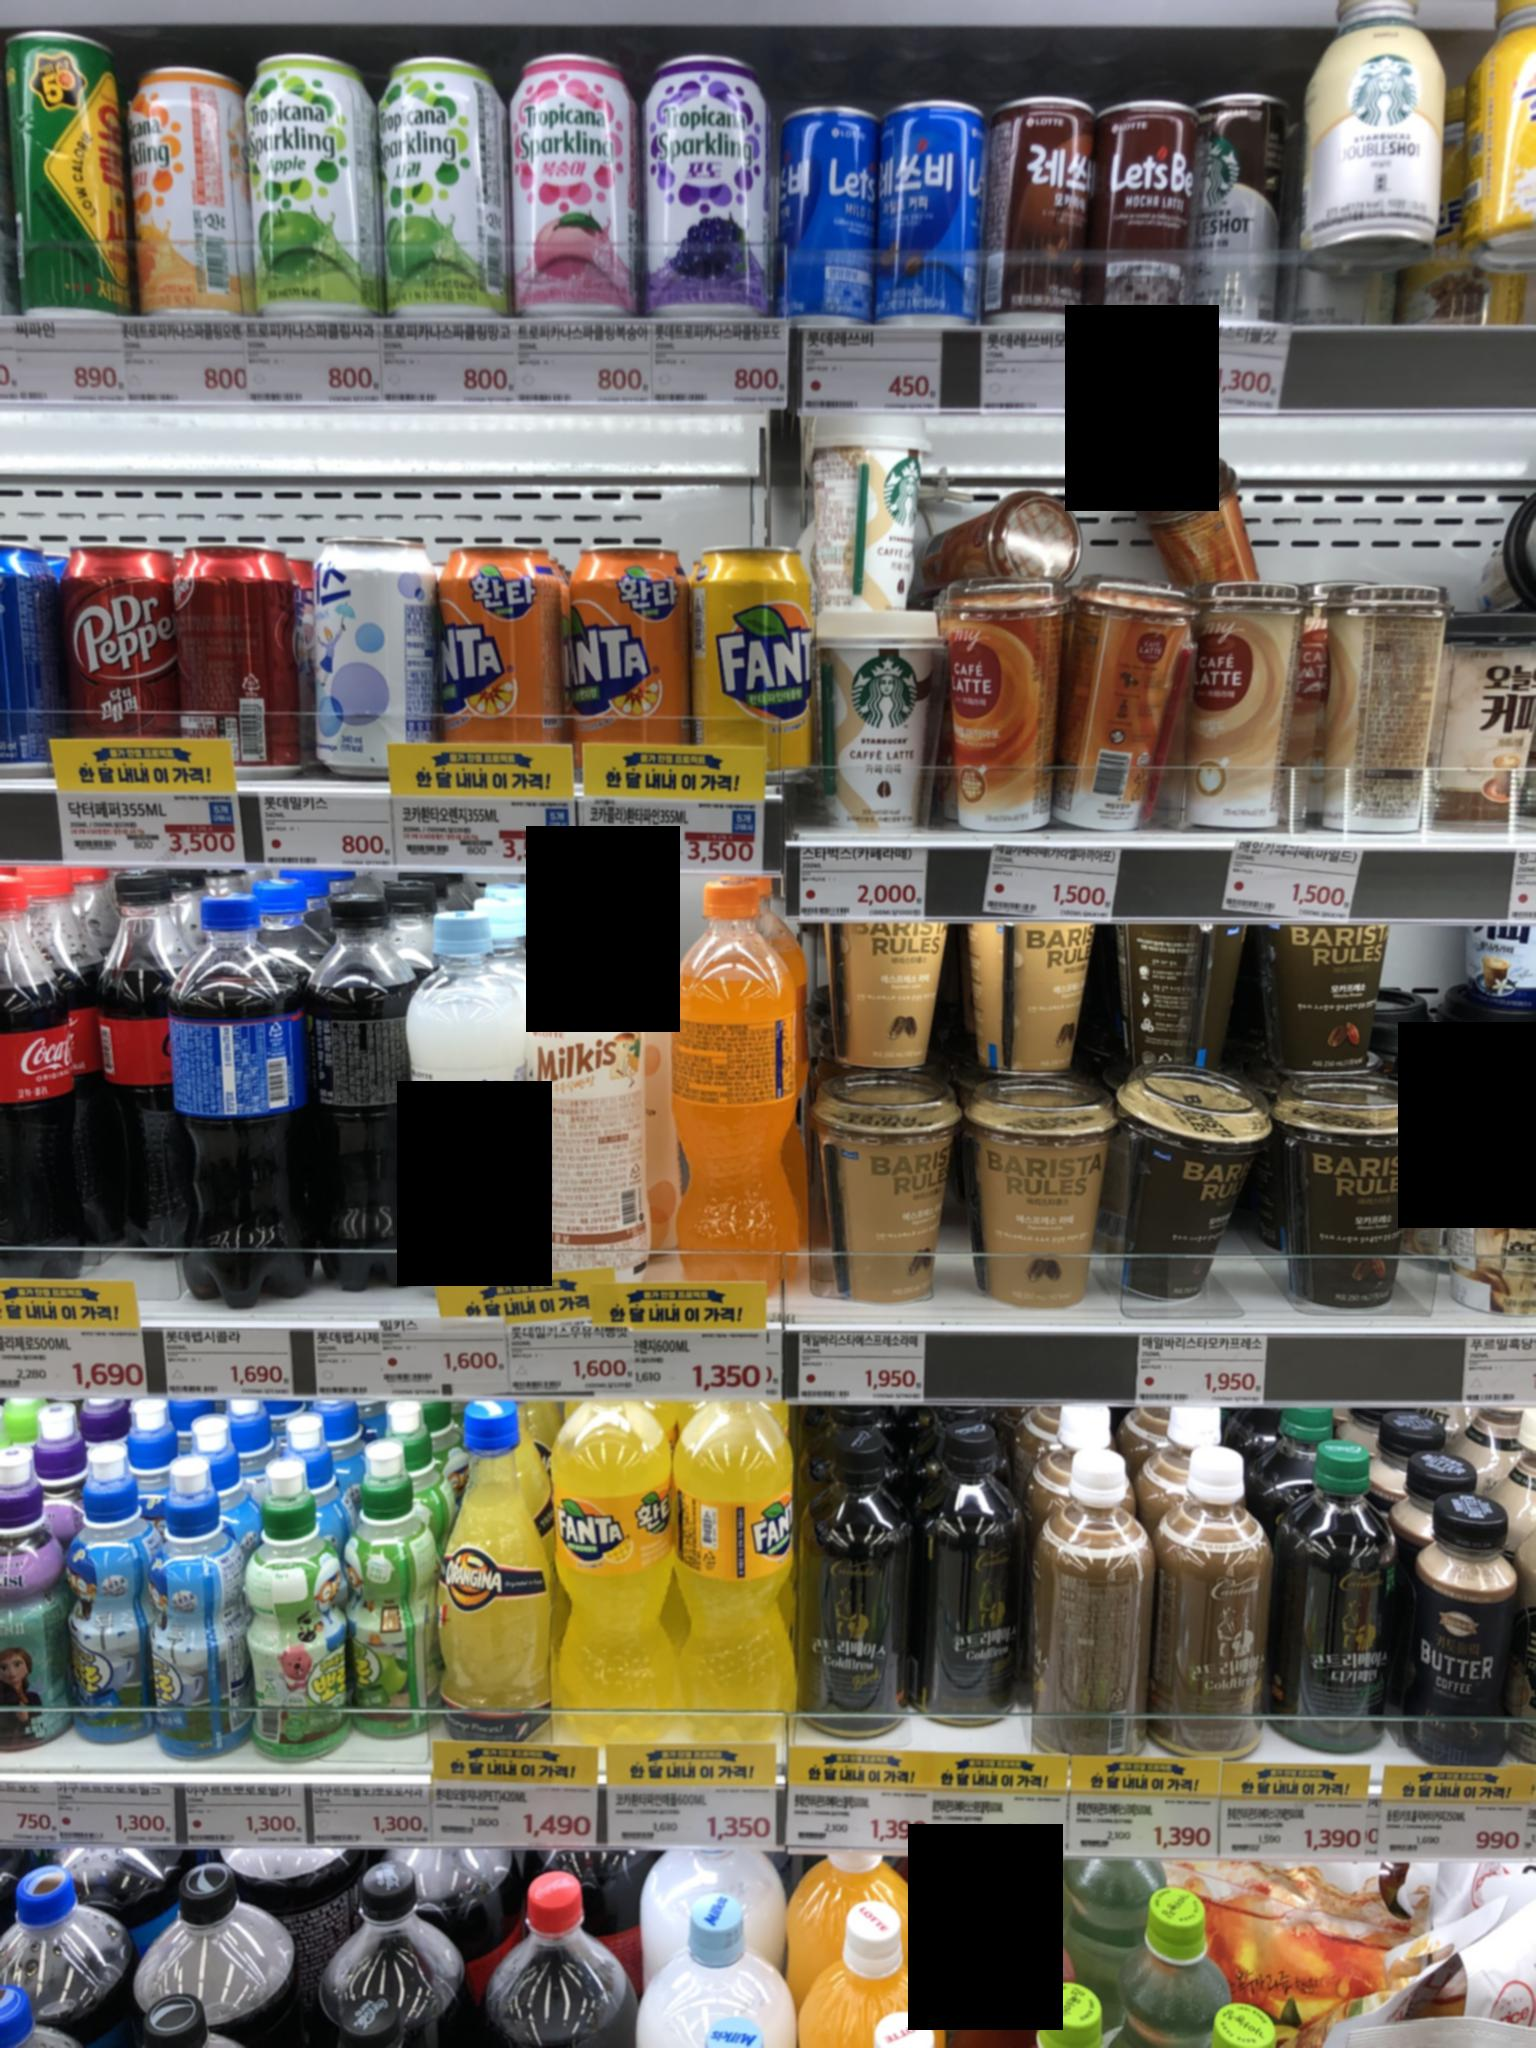baristarules_espressolatte: (808, 1069, 957, 1306), (960, 1071, 1097, 1288)
fanta_orange: (423, 526, 558, 742), (566, 522, 673, 731)
letsbe: (779, 82, 881, 331), (874, 102, 978, 306)
